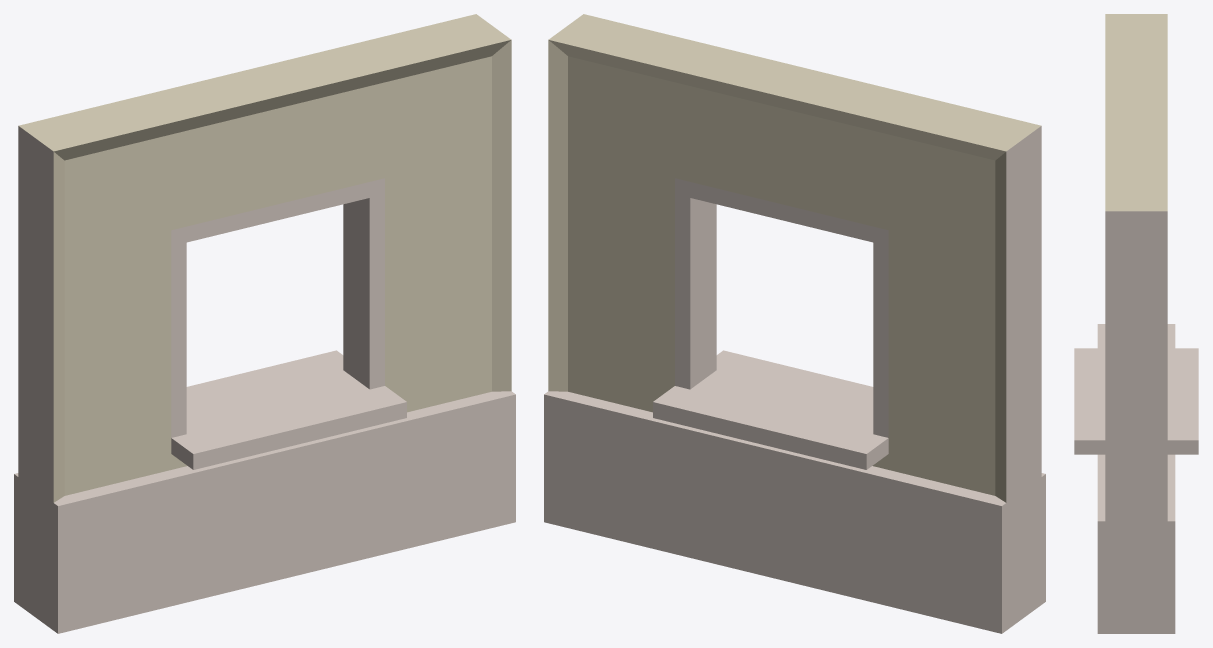
File: roman_wall_window_3.fbx
3 renders of one model, left to right at view 1: azimuth 30°, elevation 25°; view 2: azimuth 150°, elevation 25°; view 3: azimuth 270°, elevation 25°, orthographic. The views are drawn at different scales.
Visible parts, largest first — view 1: Cube.046; view 2: Cube.046; view 3: Cube.046.
Boxes of the visible parts, x1,y1,x2,y2 form: Cube.046: [14, 14, 515, 633]; Cube.046: [544, 14, 1045, 633]; Cube.046: [1074, 14, 1198, 633].
Size of the model in its own units: 3 by 3 by 0.8.
